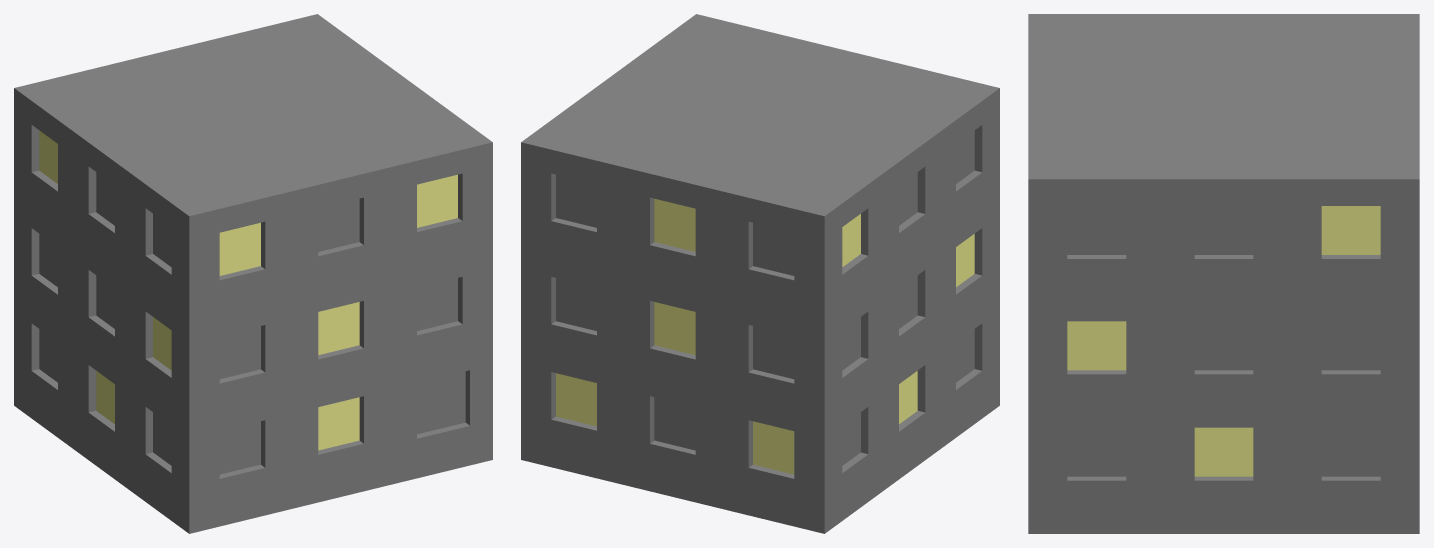
The model's file is bill.obj.
3 renders of one model, left to right at view 1: azimuth 30°, elevation 25°; view 2: azimuth 150°, elevation 25°; view 3: azimuth 270°, elevation 25°, orthographic. The views are drawn at different scales.
Size of the model in its own units: 4 by 4 by 4.
Materials: 1 (1 with a texture image).
